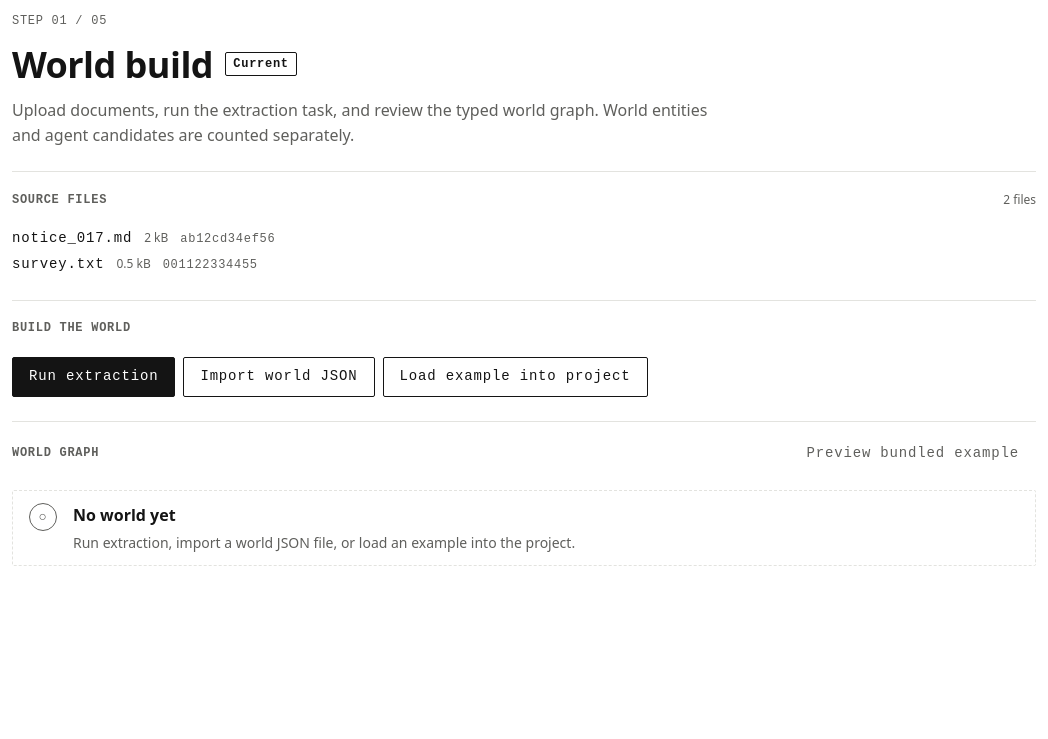
Scenario: Step1WorldBuild › example picker › keeps the picker open with the server's message when the example world is rejected
The width and height of the screenshot is (1048, 739).
Click the button with test id "open-example-picker": (515, 377) [382, 357, 648, 397]
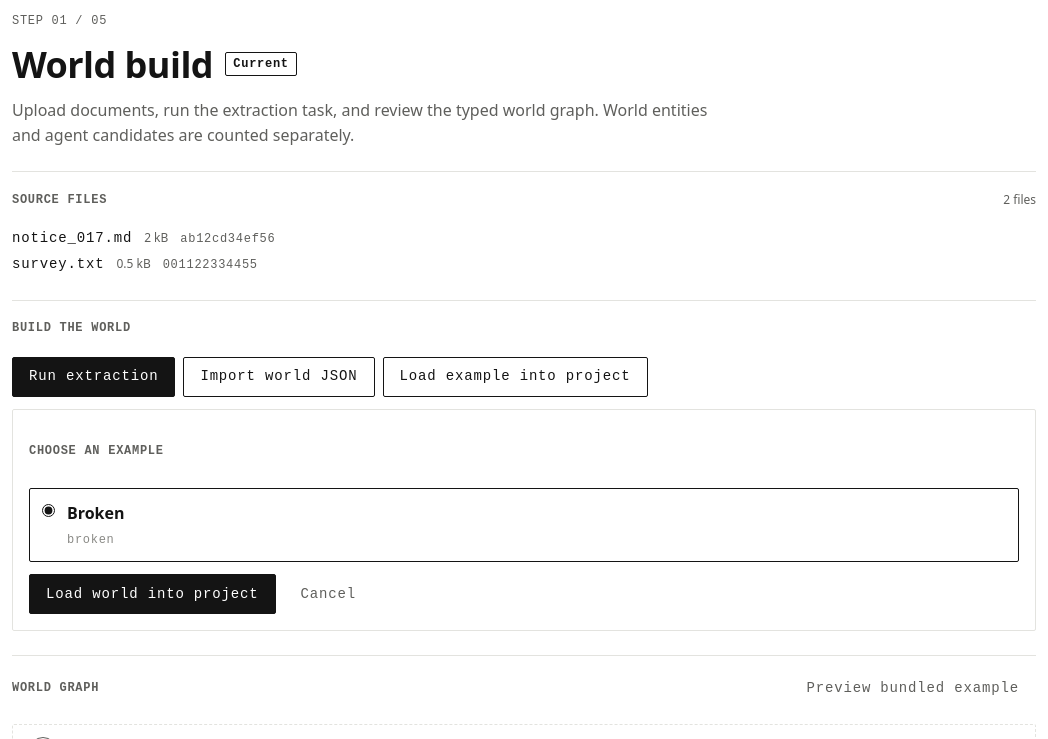
Click the button with test id "example-confirm": (152, 594) [29, 574, 276, 614]
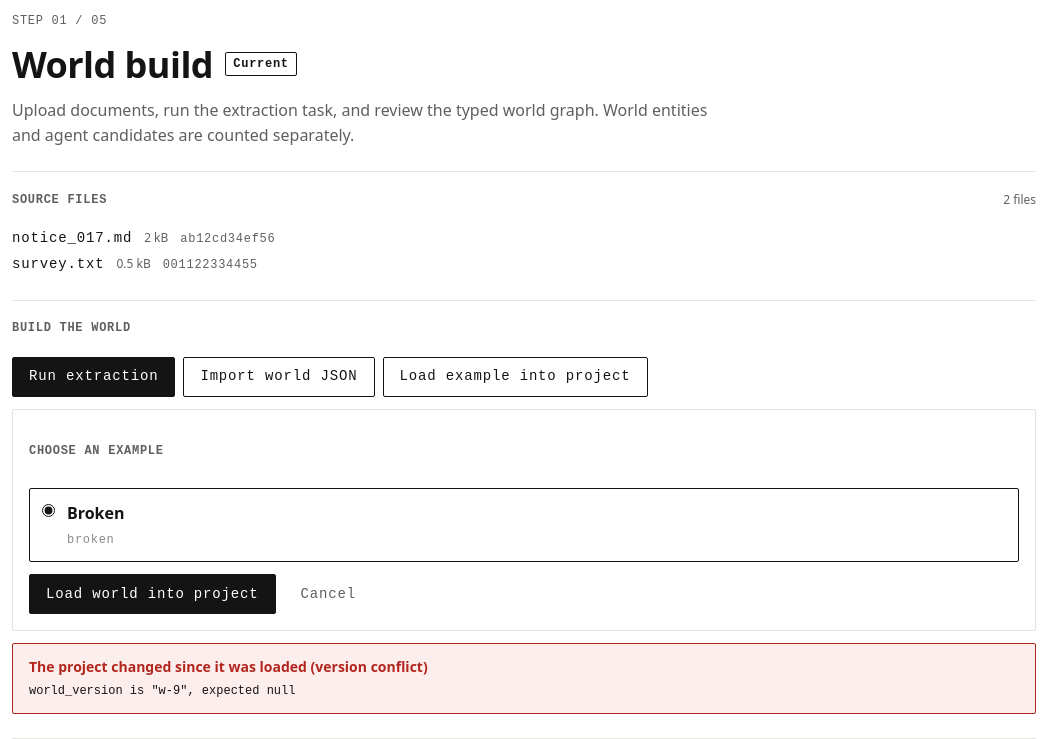
Expected: the element with test id "example-picker" is shown, [12, 409, 1036, 632]
Expected: the message with test id "world-import-error" shows "world_version is \"w-9\", expected null", [29, 684, 296, 698]
